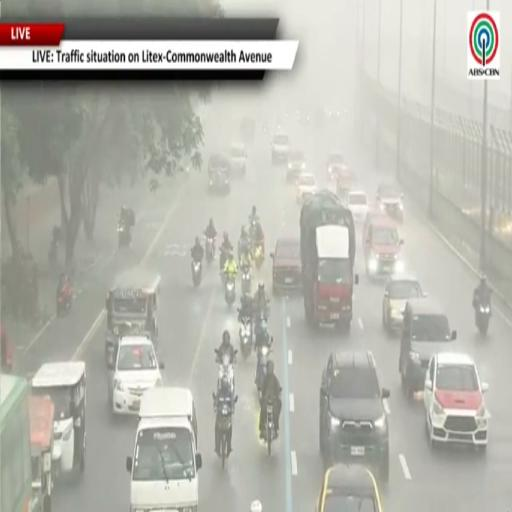bus: (0, 374, 31, 511)
car: (319, 351, 389, 482), (424, 352, 489, 450), (399, 297, 456, 399), (108, 335, 163, 414), (316, 464, 382, 511), (382, 276, 426, 333), (363, 218, 404, 277), (271, 238, 302, 295), (376, 184, 403, 222), (208, 154, 230, 194), (335, 166, 357, 202), (346, 190, 369, 223), (286, 150, 305, 183), (363, 208, 388, 233), (297, 172, 317, 203), (228, 143, 247, 175), (271, 133, 290, 165), (327, 152, 346, 181)
jeepney: (105, 267, 161, 365), (29, 395, 58, 511)
motorcycle: (216, 396, 238, 469), (215, 349, 238, 394), (255, 342, 271, 399), (264, 400, 275, 456), (240, 316, 253, 360), (475, 301, 491, 336), (117, 222, 131, 249), (57, 291, 72, 316), (225, 276, 235, 307), (48, 236, 58, 266), (241, 265, 251, 295), (192, 260, 202, 286), (254, 244, 264, 269), (220, 247, 228, 278), (206, 237, 215, 264)
truck: (300, 190, 359, 332)
